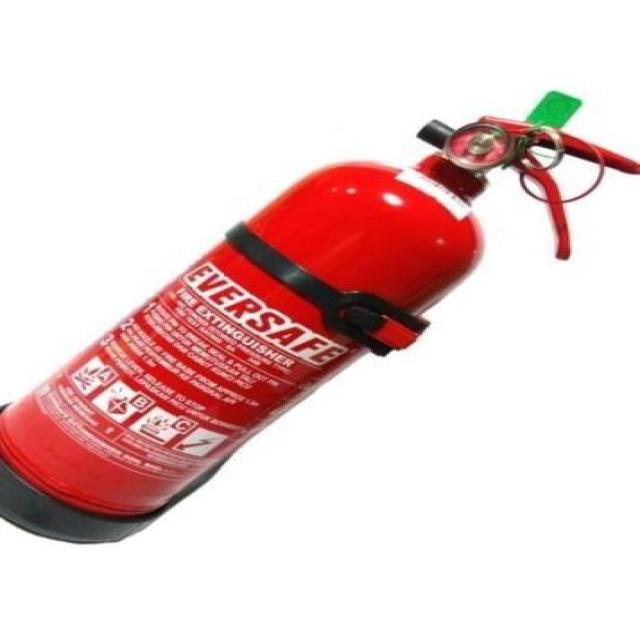fire_extinguisher: (0, 86, 638, 548)
